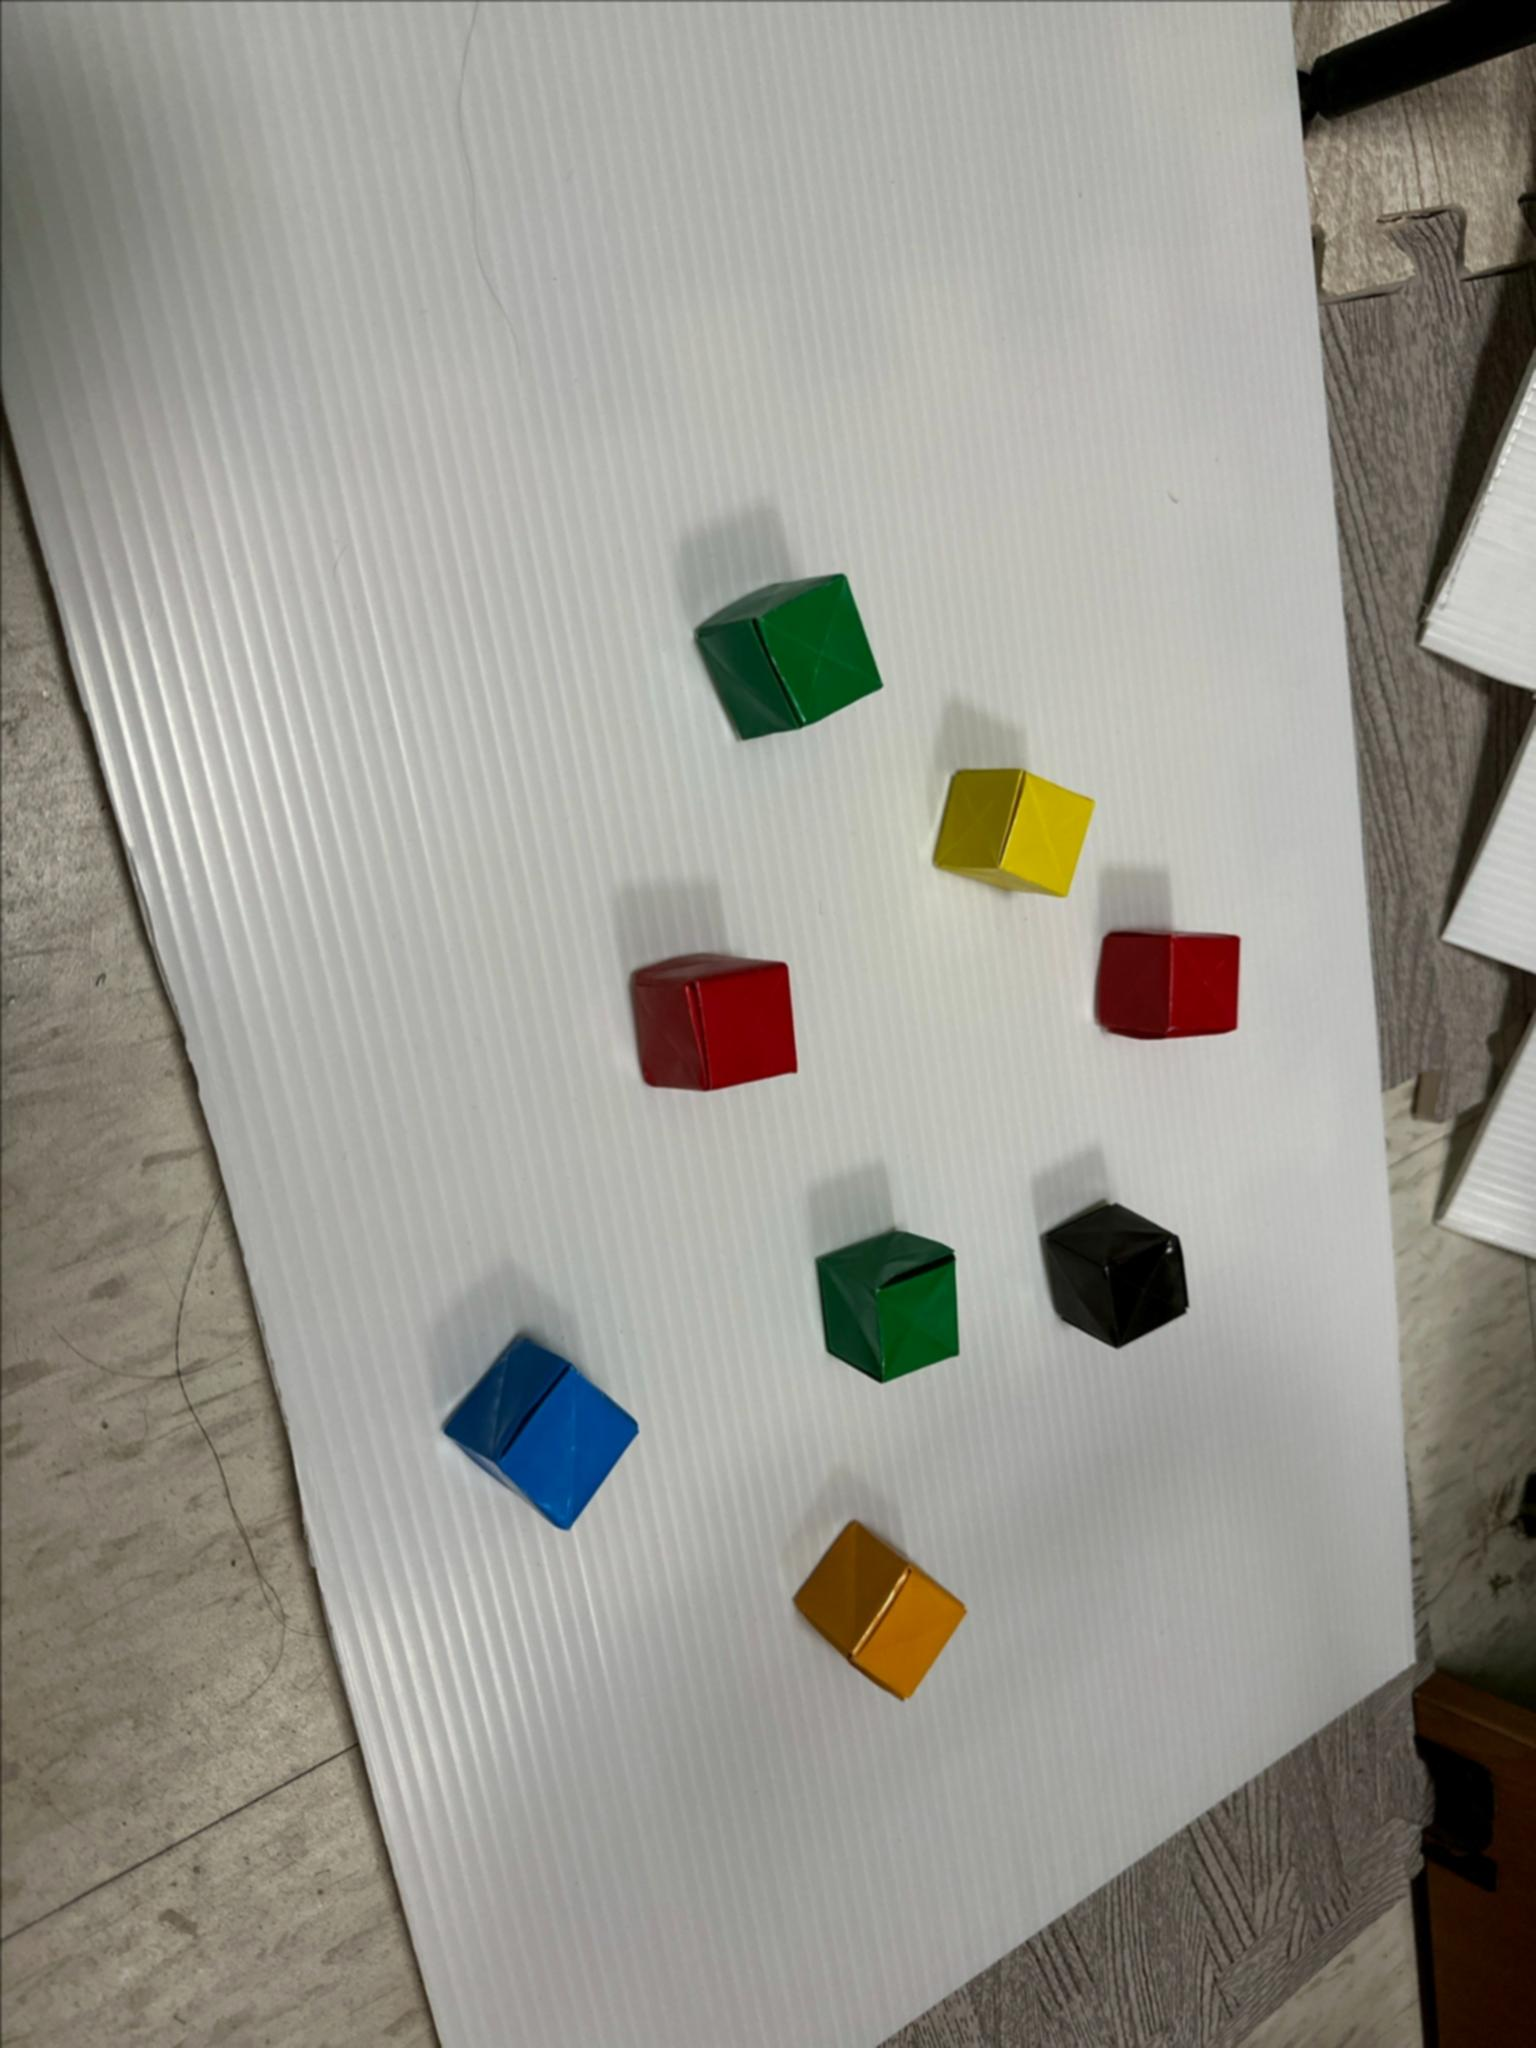cube: (442, 1337, 636, 1529), (694, 574, 881, 739), (795, 1521, 965, 1698), (631, 956, 795, 1090), (816, 1230, 958, 1382), (1041, 1205, 1187, 1347), (933, 769, 1092, 895), (1096, 934, 1239, 1039)
